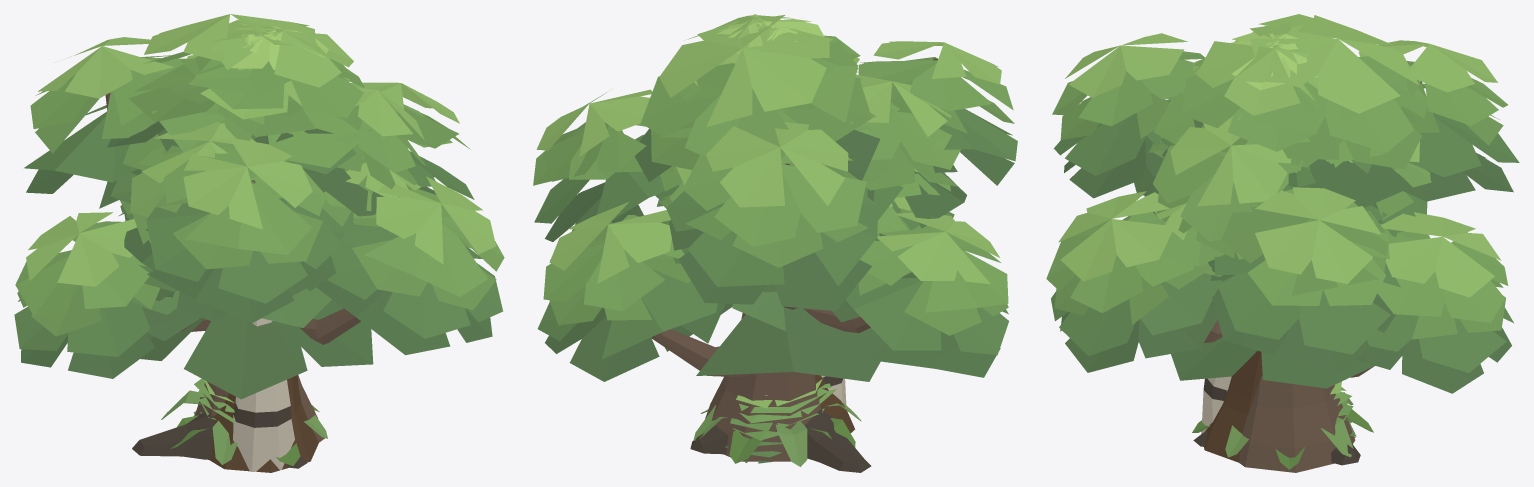
File: woods.glb
The picture shows the model from 3 angles, left to right: view 1: azimuth 30°, elevation 25°; view 2: azimuth 150°, elevation 25°; view 3: azimuth 270°, elevation 25°; orthographic projection.
Visible parts, largest first — view 1: Oak_Tree_Green, Birch_Tree_Green_03, Pine_Tree_Green_02, Birch_Tree_Green_02, Tree_Green_01, Tree_Green_02, Plant_02, Birch_Tree_Green_01, Bush_Green_04; view 2: Oak_Tree_Green, Birch_Tree_Green_03, Pine_Tree_Green_02, Tree_Green_01, Plant_02, Birch_Tree_Green_02, Bush_Green_04, Tree_Green_02, Birch_Tree_Green_01; view 3: Oak_Tree_Green, Birch_Tree_Green_03, Pine_Tree_Green_02, Tree_Green_01, Tree_Green_02, Birch_Tree_Green_02, Plant_02, Birch_Tree_Green_01.
Part boxes in pixels (x1,y1,x2,y2): Oak_Tree_Green: [14, 20, 504, 442]; Birch_Tree_Green_03: [107, 14, 425, 471]; Pine_Tree_Green_02: [140, 33, 373, 399]; Birch_Tree_Green_02: [110, 23, 373, 288]; Tree_Green_01: [132, 156, 421, 468]; Tree_Green_02: [167, 292, 318, 472]; Plant_02: [161, 390, 327, 465]; Birch_Tree_Green_01: [202, 26, 327, 135]; Bush_Green_04: [193, 378, 234, 422]; Oak_Tree_Green: [533, 15, 1017, 461]; Birch_Tree_Green_03: [634, 14, 966, 404]; Pine_Tree_Green_02: [665, 27, 884, 381]; Tree_Green_01: [656, 166, 954, 472]; Plant_02: [693, 402, 861, 466]; Birch_Tree_Green_02: [655, 14, 903, 236]; Bush_Green_04: [725, 379, 836, 463]; Tree_Green_02: [679, 183, 910, 432]; Birch_Tree_Green_01: [718, 19, 798, 113]; Oak_Tree_Green: [1046, 23, 1519, 472]; Birch_Tree_Green_03: [1134, 14, 1434, 433]; Pine_Tree_Green_02: [1171, 35, 1374, 388]; Tree_Green_01: [1154, 141, 1431, 465]; Tree_Green_02: [1201, 160, 1378, 462]; Birch_Tree_Green_02: [1148, 32, 1395, 221]; Plant_02: [1192, 392, 1373, 469]; Birch_Tree_Green_01: [1257, 33, 1342, 167].
Size of what is drawn, in the model's own units: 6.89 by 6 by 6.35.
1 material, 1 textured.
